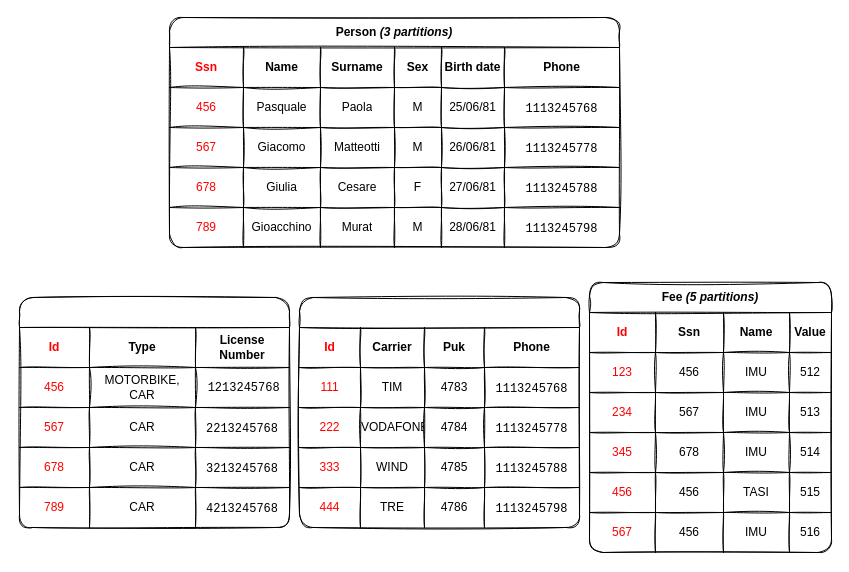
Image size: 849x572. Some labels were removed from this diagram. Each missing label, with the box of its shape:
DriverLicense (3 partitions): (18, 296, 290, 528)
Sim (4 partitions): (298, 296, 580, 528)
